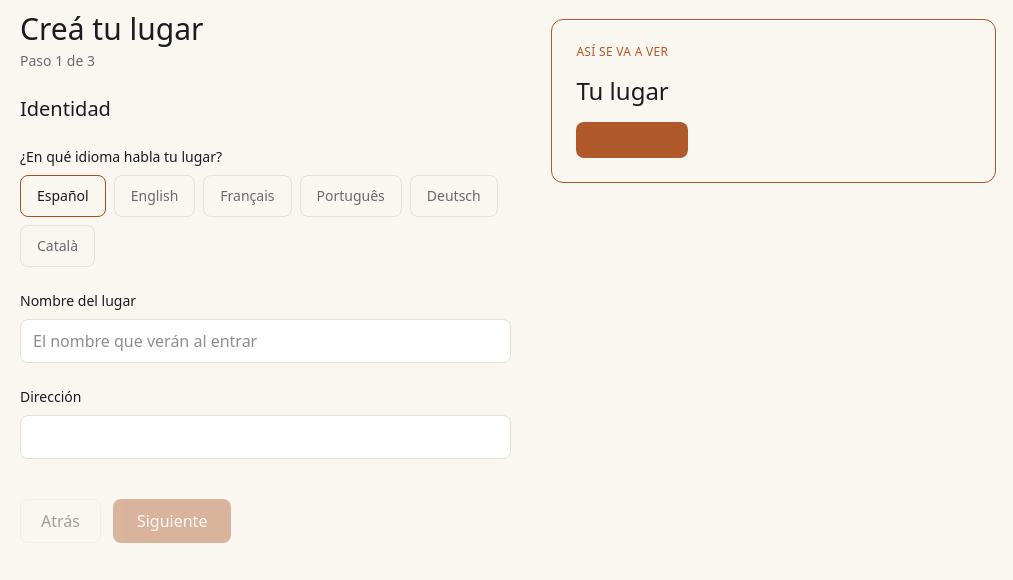
Test: PlaceWizard — shell + Paso 1 (S8a) › avisa (no autoritativo) cuando el slug está reservado
Type "app" into the field labelled "Dirección" at (266, 437), box 20,415 -> 511,459
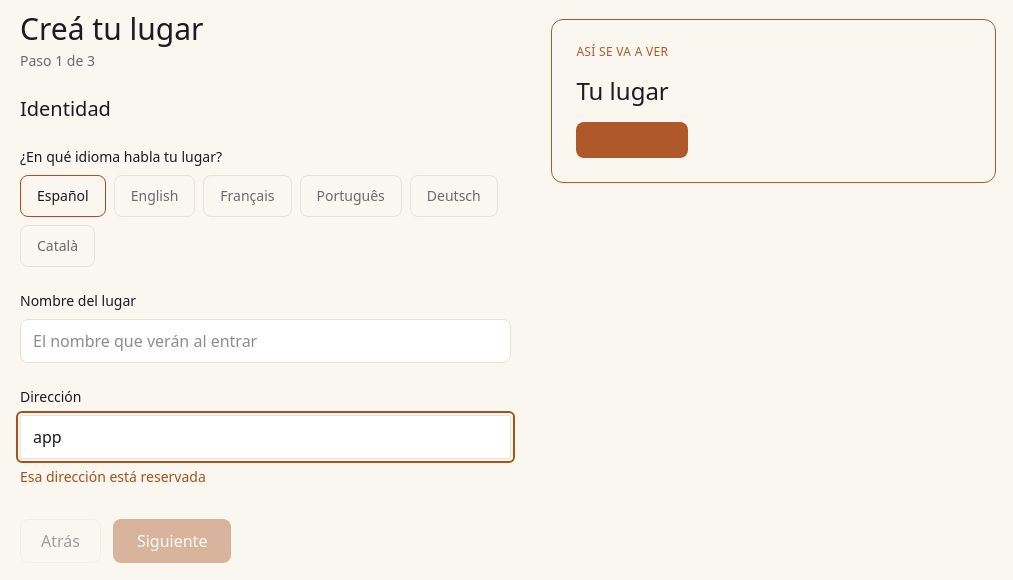
Now the text "Esa dirección está reservada" is shown, box 20,467 -> 206,486
